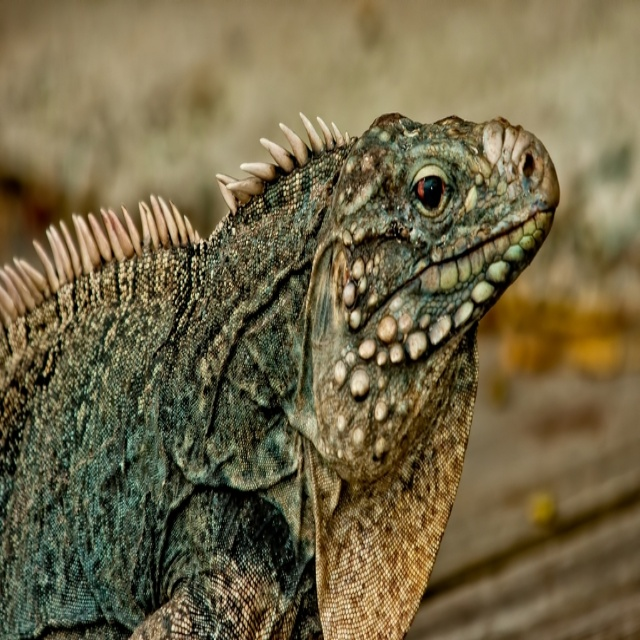Lizard: (16, 81, 538, 640)
